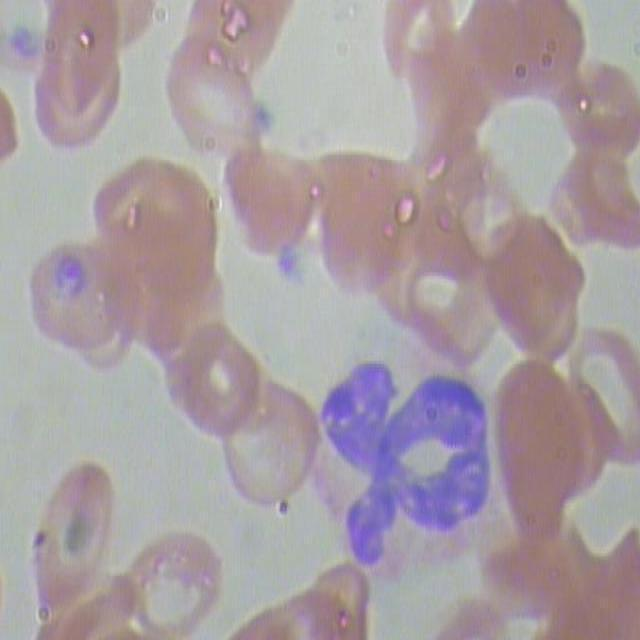Platelets: (270, 241, 305, 283)
RBC: (87, 148, 223, 309), (307, 149, 427, 303), (489, 359, 584, 552), (482, 217, 593, 371), (25, 458, 126, 622), (156, 39, 275, 173), (457, 0, 591, 112), (216, 380, 323, 516), (216, 138, 326, 262), (26, 237, 136, 360), (120, 522, 223, 638), (561, 320, 639, 472), (169, 328, 261, 445), (45, 4, 126, 127), (554, 61, 639, 178)
WBC: (296, 338, 513, 586)
